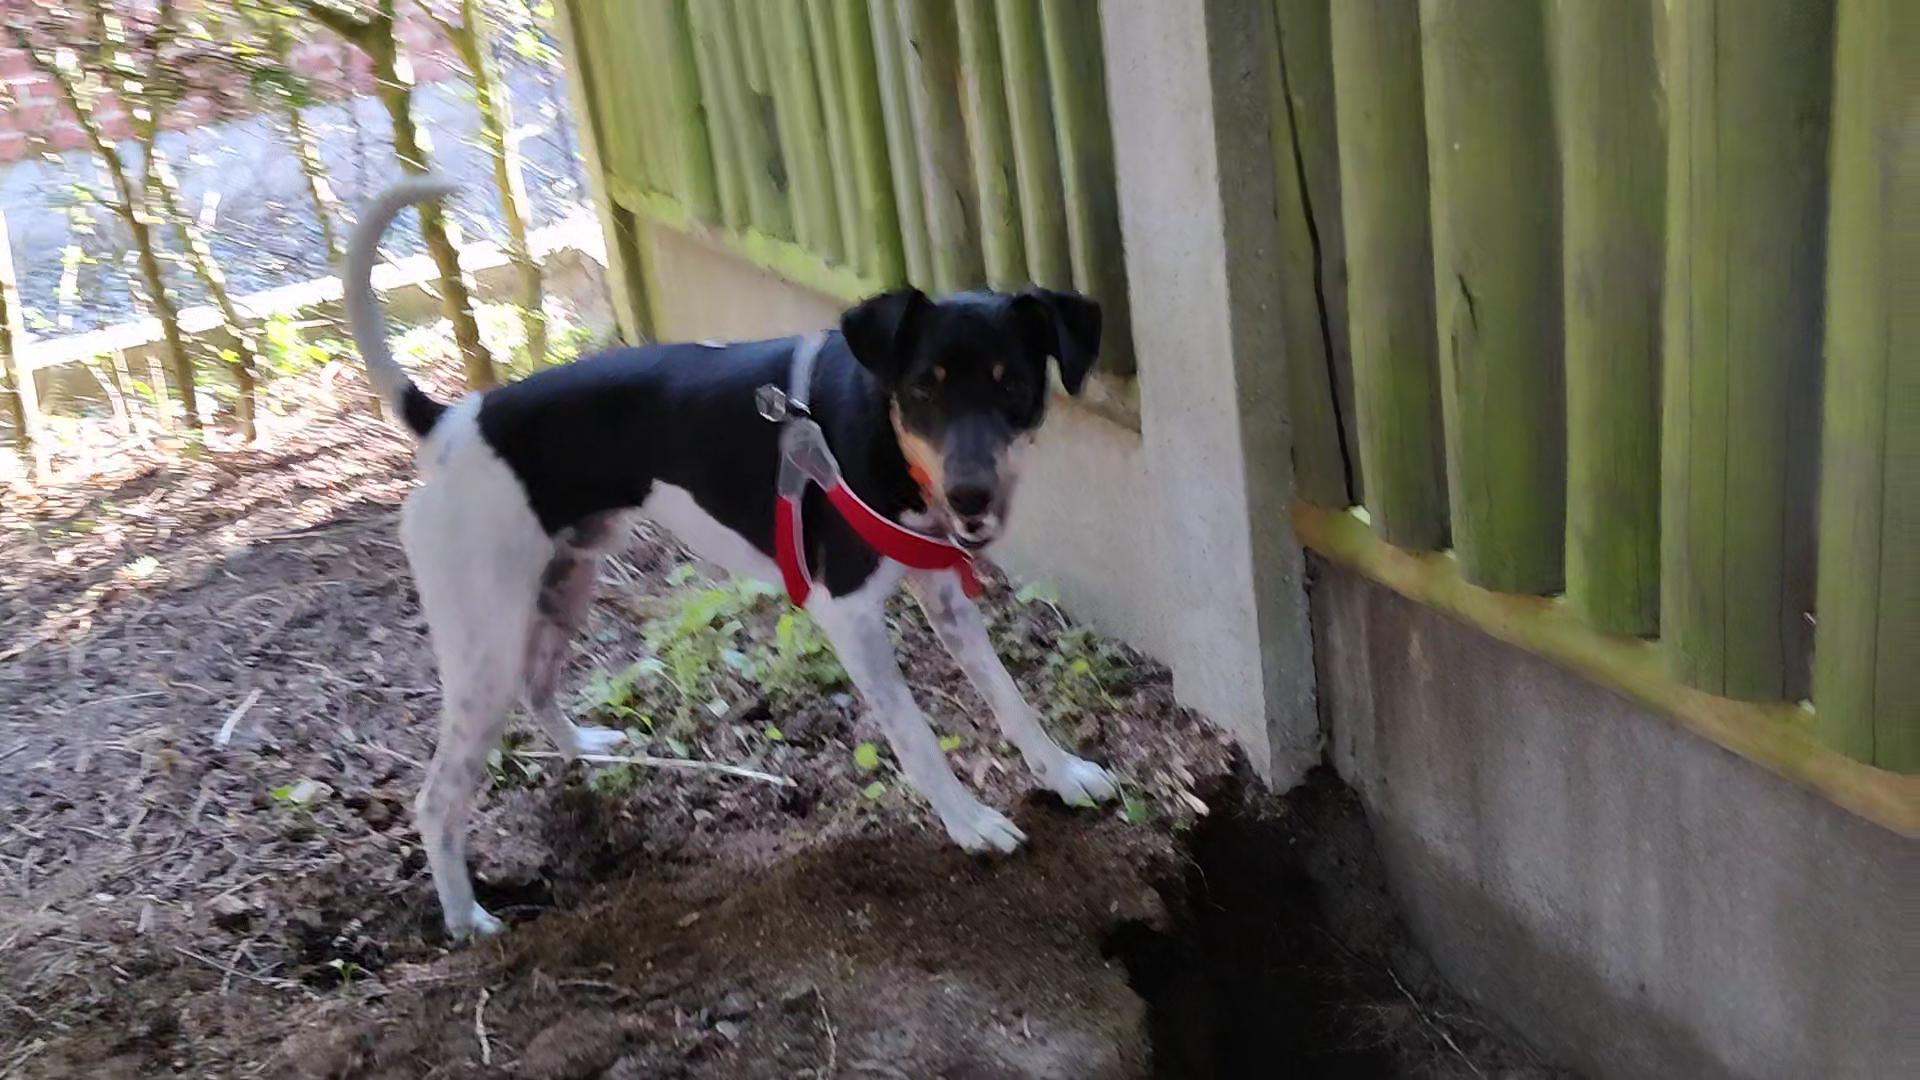Dog: (313, 145, 1153, 967)
